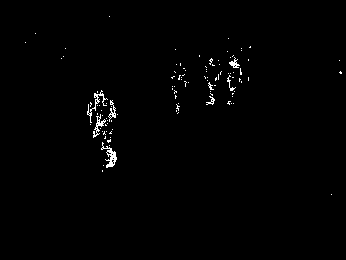person: (87, 90, 117, 170), (169, 61, 189, 114), (203, 57, 222, 107), (226, 53, 244, 105)
